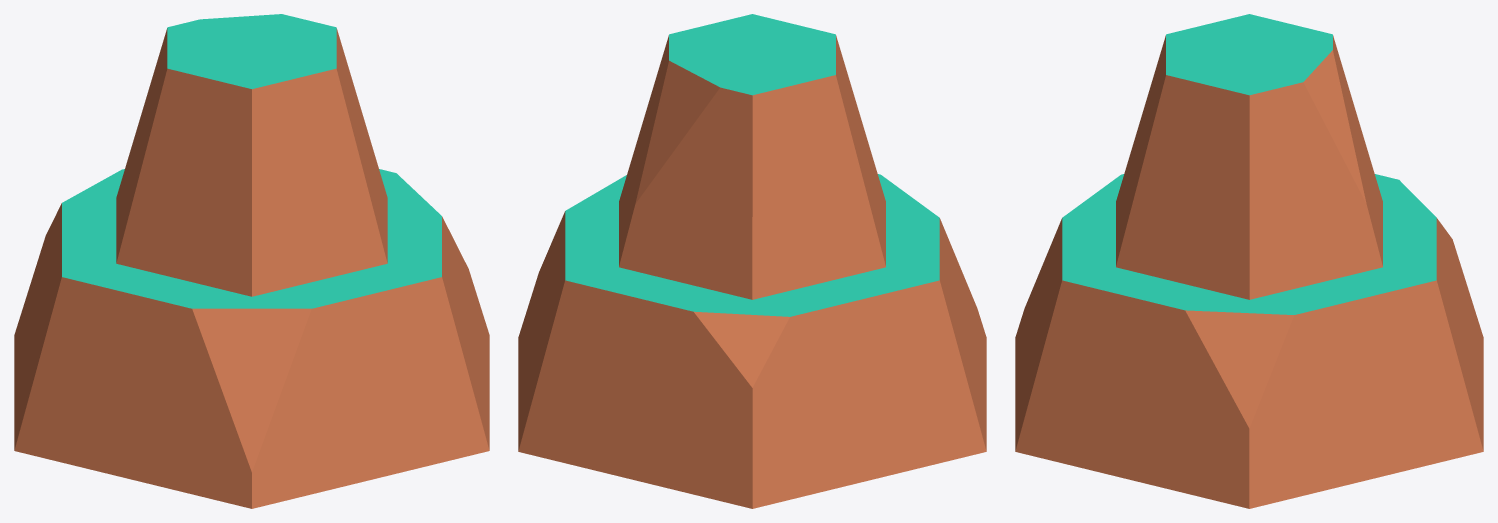
Rendered from rock_smallF.dae.
3 views of the same model, side by side, from view 1: azimuth 30°, elevation 25°; view 2: azimuth 150°, elevation 25°; view 3: azimuth 270°, elevation 25° (orthographic).
Parts seen in each view (by area): view 1: rock_smallF; view 2: rock_smallF; view 3: rock_smallF.
Part boxes in pixels (x1,y1,x2,y2): rock_smallF: [14, 14, 489, 508]; rock_smallF: [518, 14, 986, 508]; rock_smallF: [1015, 14, 1483, 508].
Bounding box in the file's own units: 0.3536 × 0.2453 × 0.3062.
